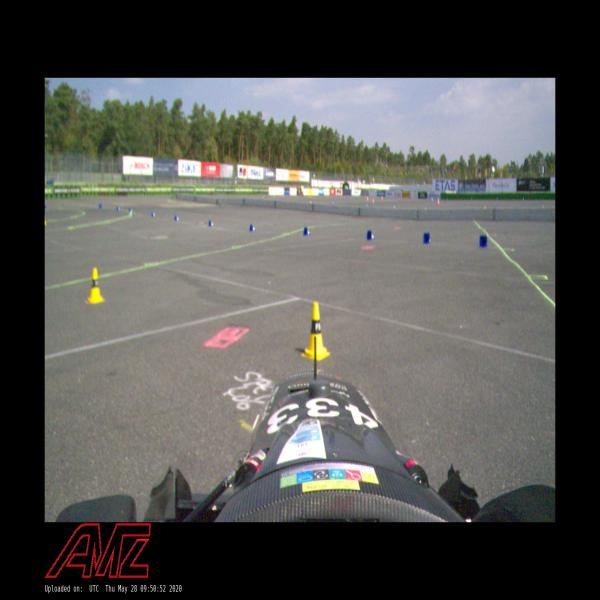blue_cone: (423, 232, 432, 245), (366, 230, 375, 241), (303, 227, 311, 236), (249, 223, 256, 231), (208, 220, 214, 228), (174, 215, 180, 221)
yellow_cone: (301, 301, 331, 361), (85, 267, 105, 305)
